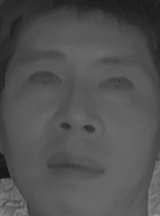eye: (26, 67, 68, 91), (96, 74, 135, 96)
mouth: (43, 148, 106, 188)
